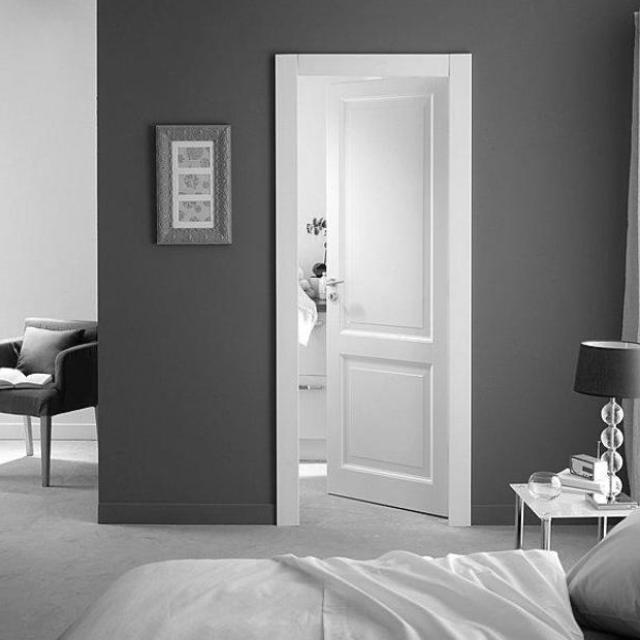door: (323, 75, 451, 517)
